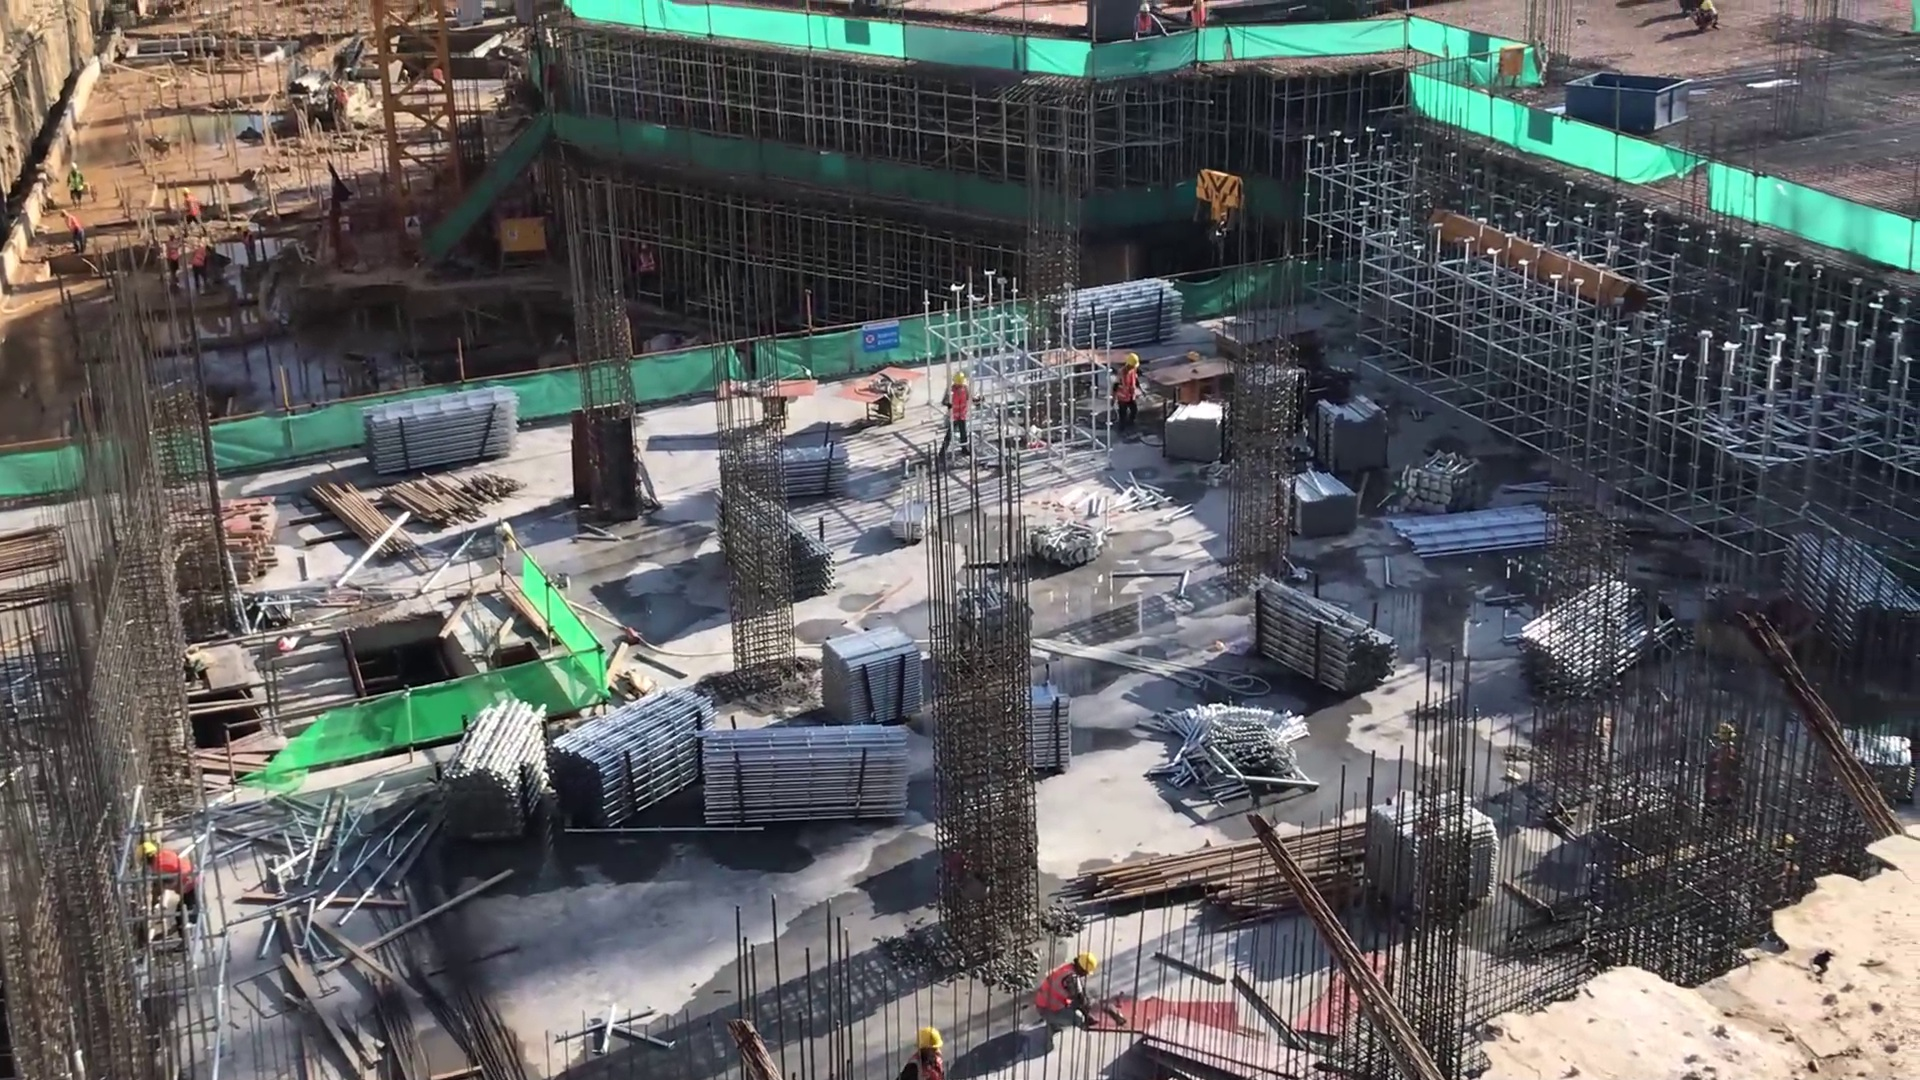cutter: (838, 362, 926, 427), (718, 374, 818, 431)
ebox: (491, 211, 555, 276)
helmet: (909, 1023, 945, 1057), (945, 364, 972, 392), (1072, 951, 1098, 979), (135, 840, 160, 864), (1122, 348, 1145, 372), (52, 204, 67, 219), (63, 158, 80, 170)
hook: (1176, 162, 1253, 243)
hopper: (1562, 69, 1703, 138)
person: (128, 839, 208, 940), (1034, 949, 1104, 1039), (935, 361, 980, 464), (1105, 351, 1152, 437), (889, 1020, 949, 1080), (48, 202, 90, 264), (60, 156, 88, 207)
scaffold: (692, 715, 921, 846), (553, 681, 723, 835), (1245, 564, 1398, 706), (432, 686, 561, 844), (356, 378, 534, 488), (818, 622, 926, 731), (1056, 273, 1193, 355), (1318, 387, 1396, 477), (1279, 467, 1372, 541), (1158, 400, 1228, 469), (781, 433, 853, 499)
vest: (152, 846, 200, 895), (1036, 960, 1078, 1017), (941, 389, 974, 427), (1113, 370, 1140, 409), (904, 1056, 945, 1080), (62, 211, 84, 240), (65, 173, 85, 192)
